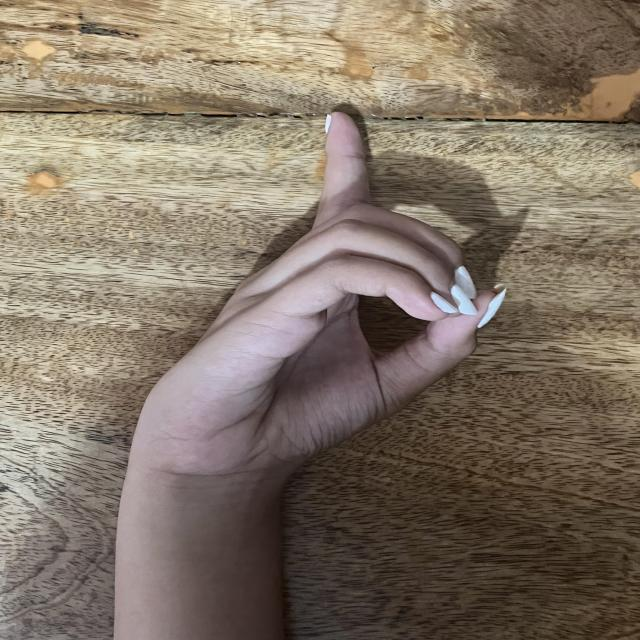D: (128, 111, 498, 472)
